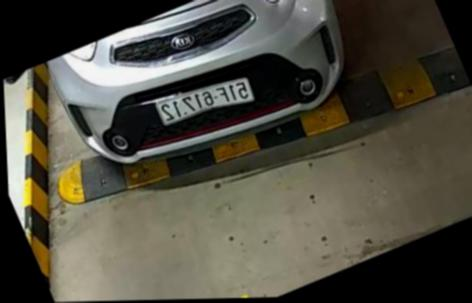License_Plate: (144, 72, 259, 139)
